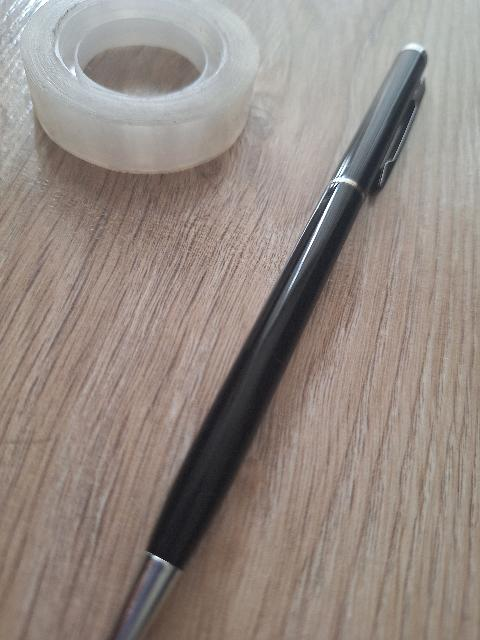writing_tool: (100, 35, 433, 635)
